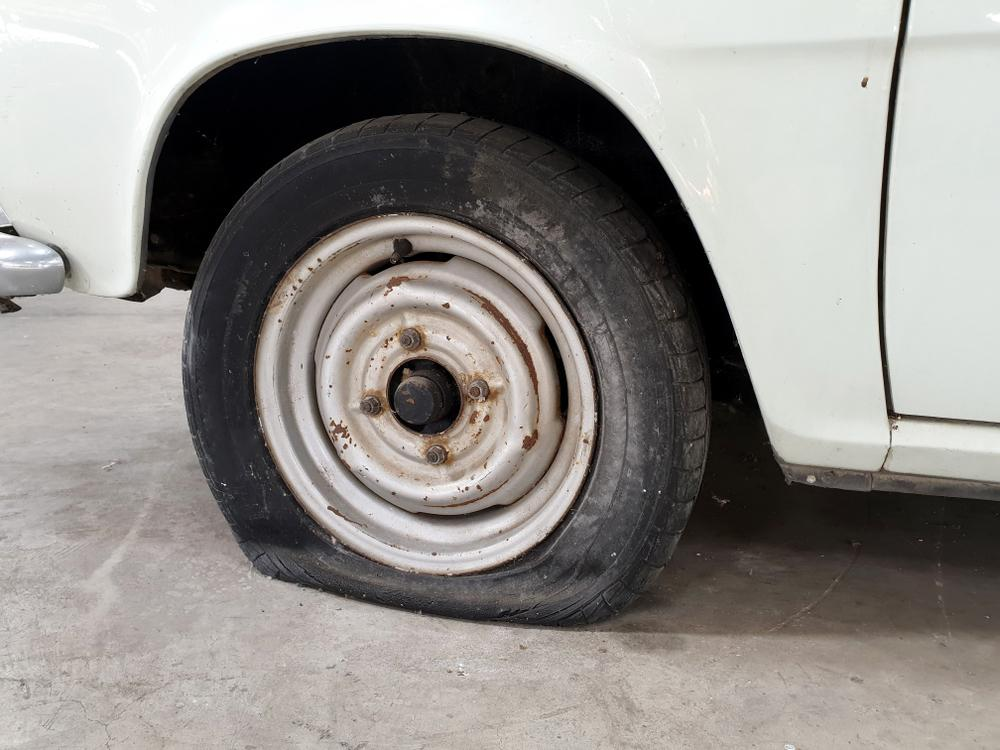tire flat: (182, 107, 713, 625)
